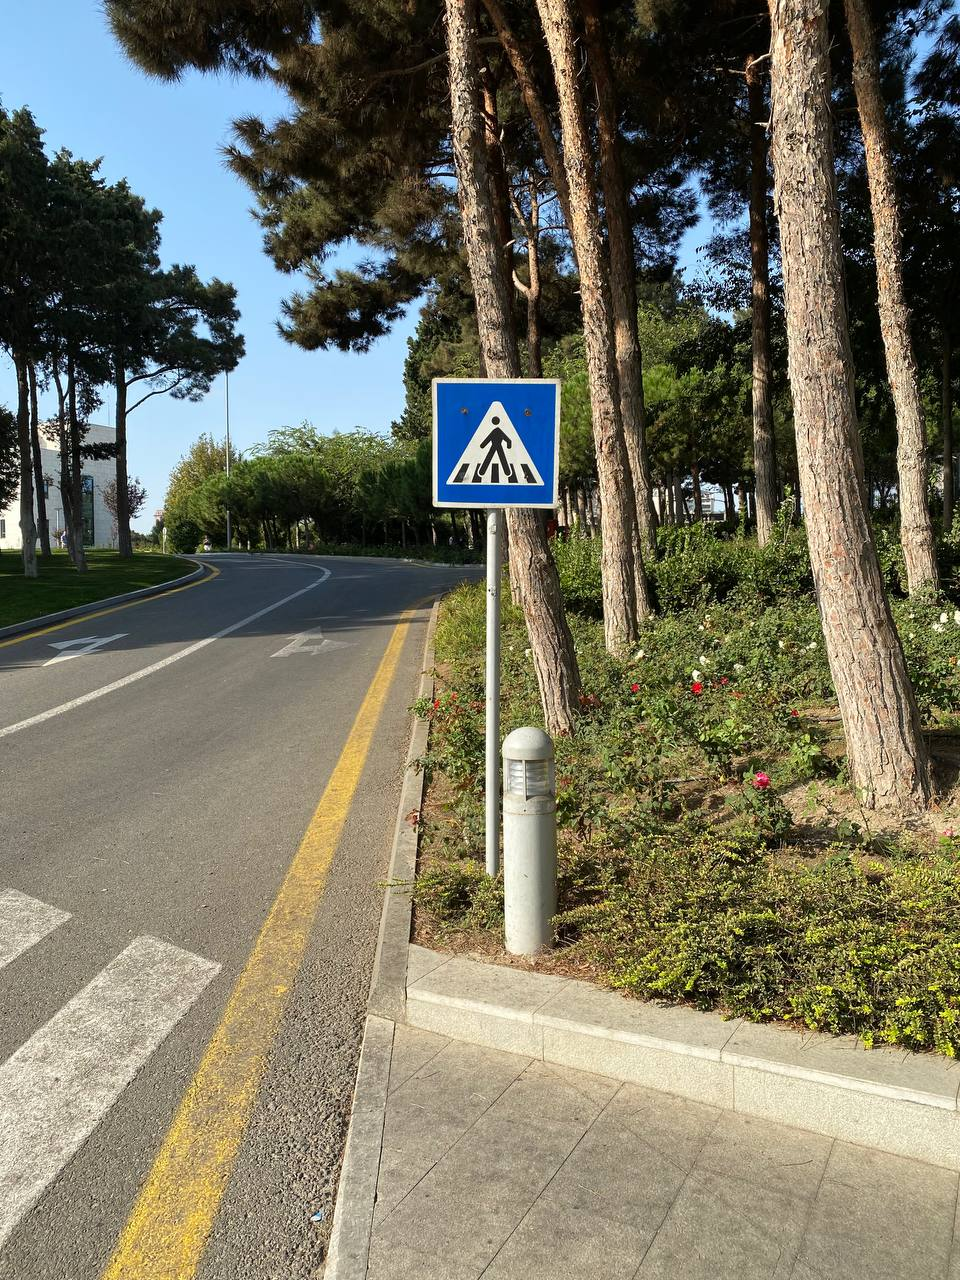Pedestrian Crossing: (431, 377, 560, 509)
